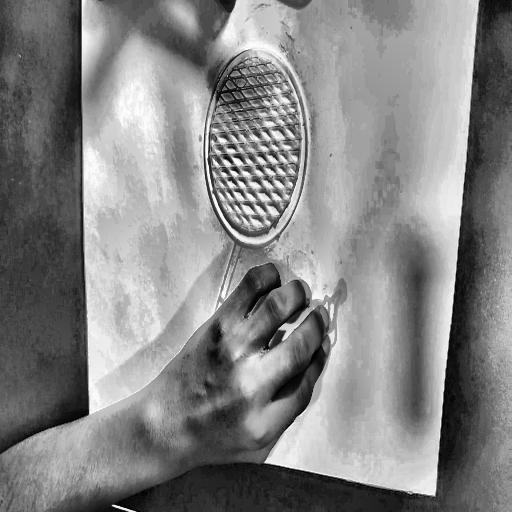badminton: (177, 34, 366, 475)
bottom_left: (90, 431, 96, 443)
bottom_right: (432, 487, 440, 502)
